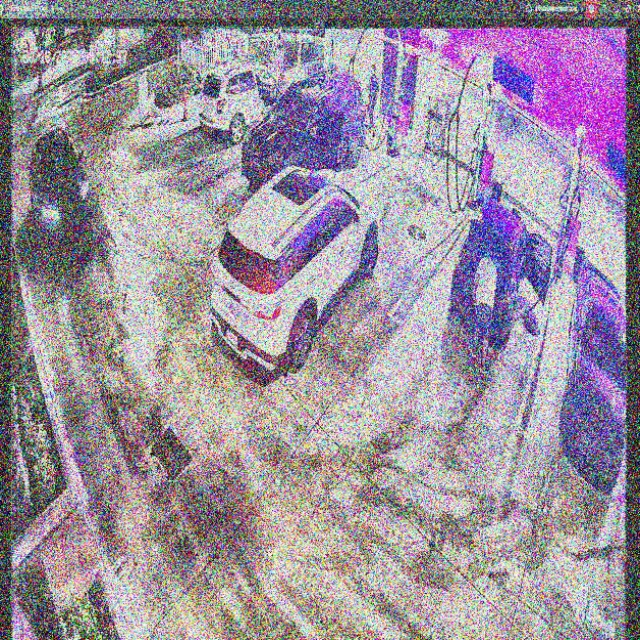Car: (208, 167, 380, 373), (244, 70, 365, 194), (453, 194, 551, 342)
